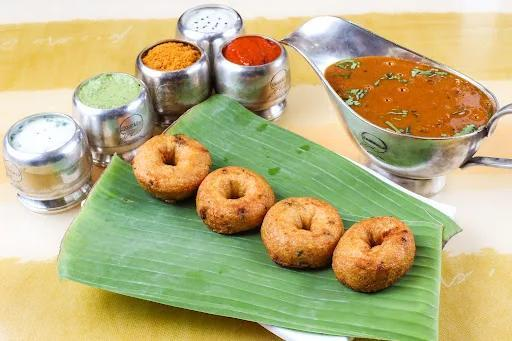mvada: (274, 197, 391, 274), (153, 138, 261, 217)
